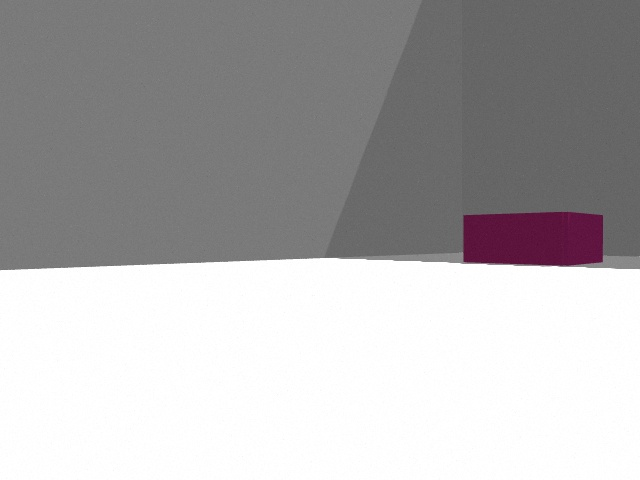red_drop_zone: (463, 212, 603, 266)
